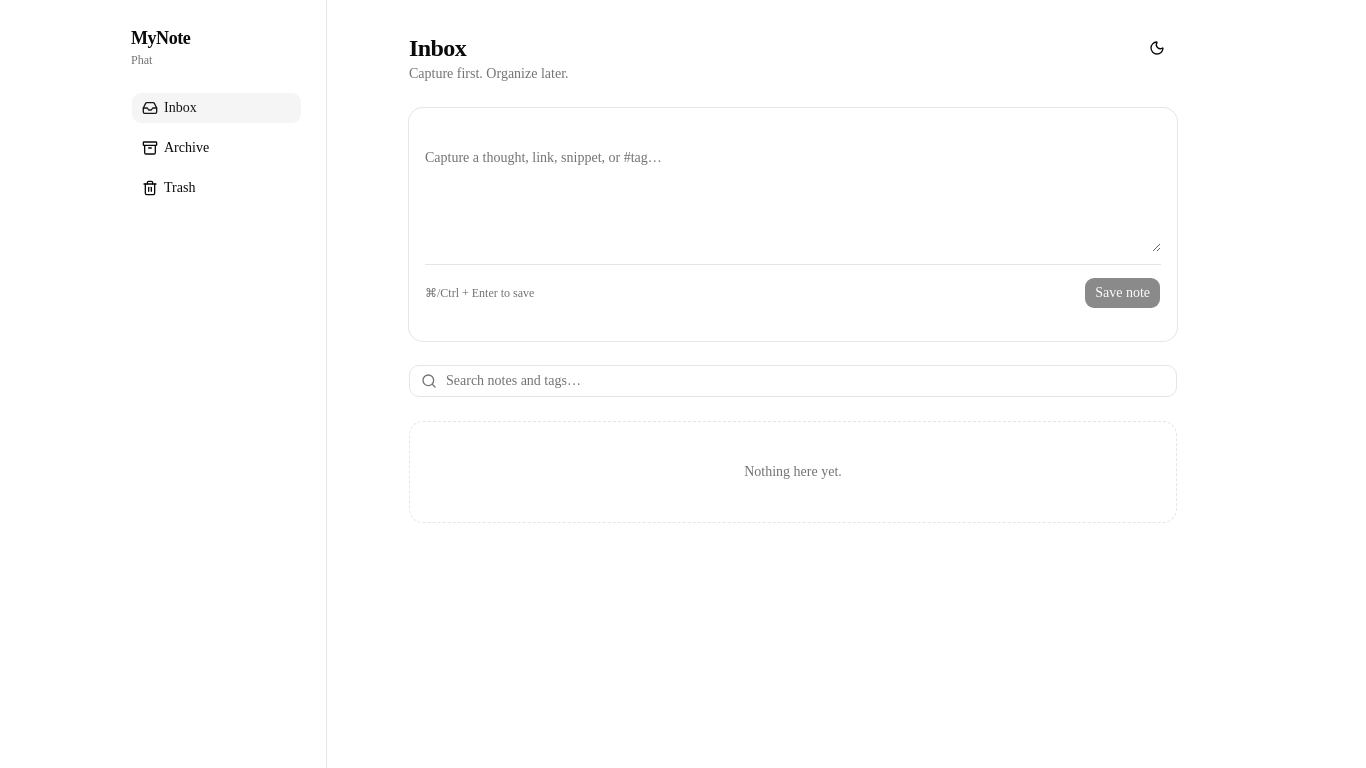
Test: NotesWorkspace › captures a note and shows it in the inbox
Type "hello #work" into the text box with placeholder "Capture a thought, link, snippet, or #tag…". click: (793, 196)
box: [425,140,1161,252]
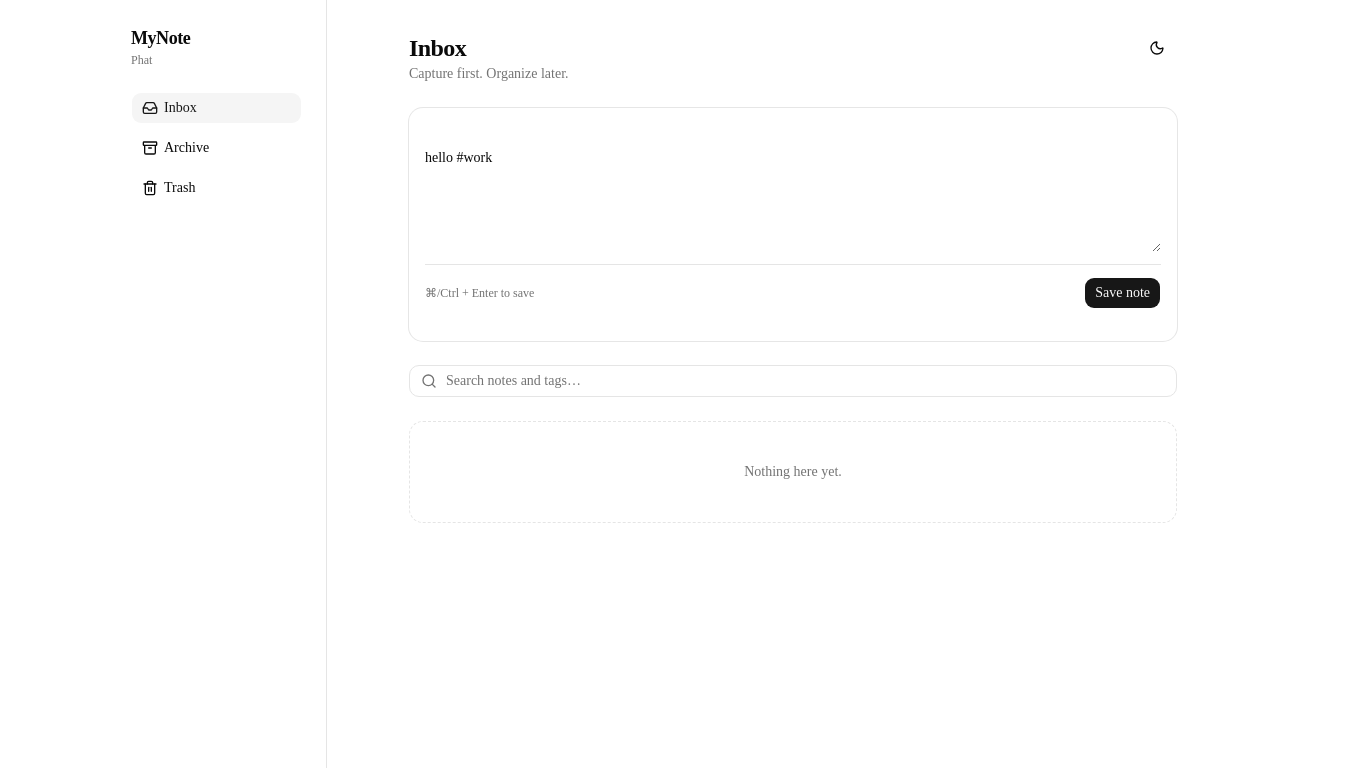
Click the button "Save note". click: (1123, 293)
box: [1084,277,1161,309]
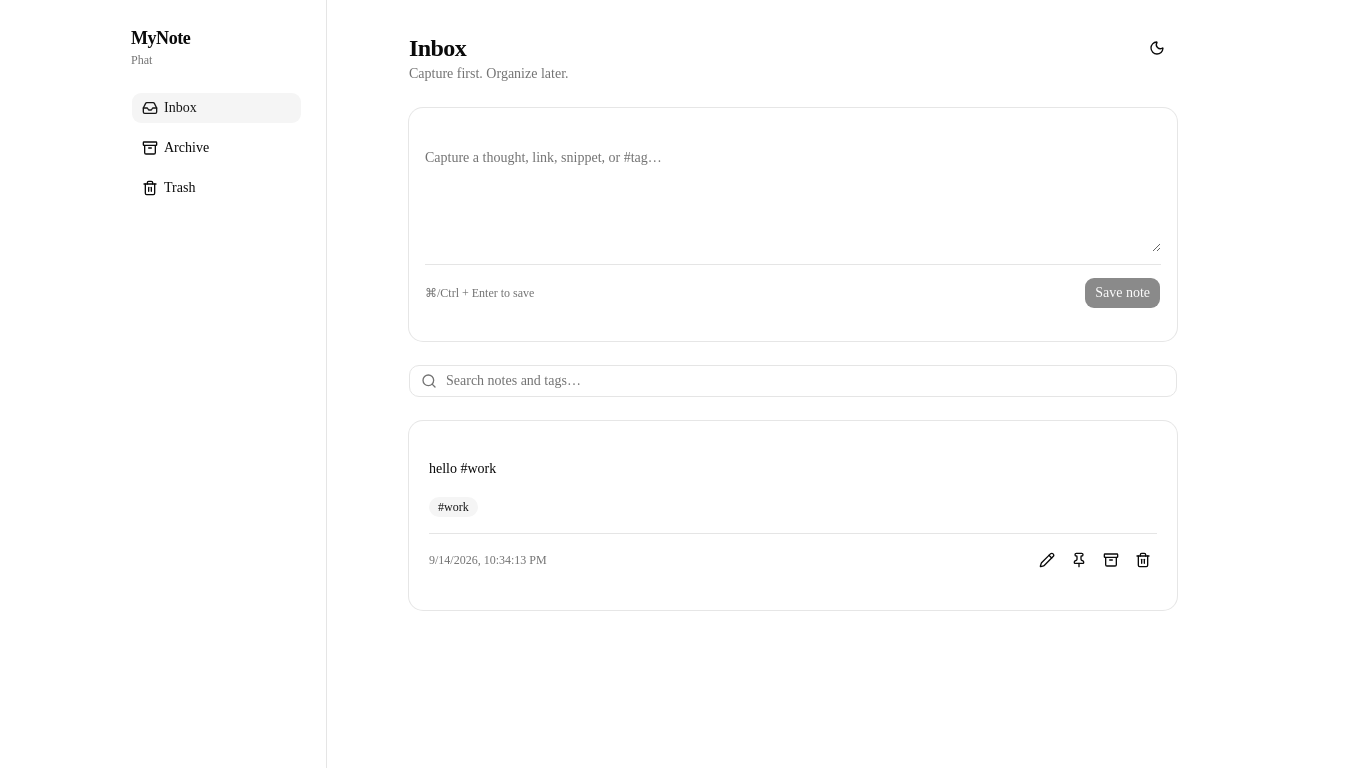
Expected: the text "hello #work" is shown, [429,461,496,476]
